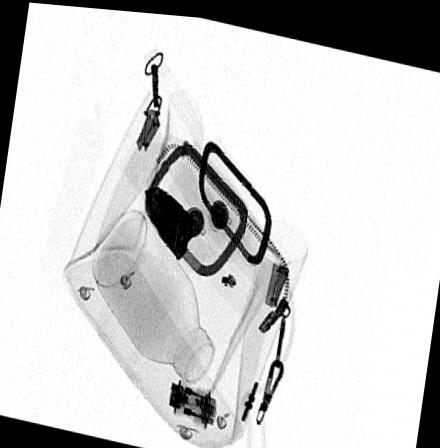Lighter: (143, 181, 195, 256)
